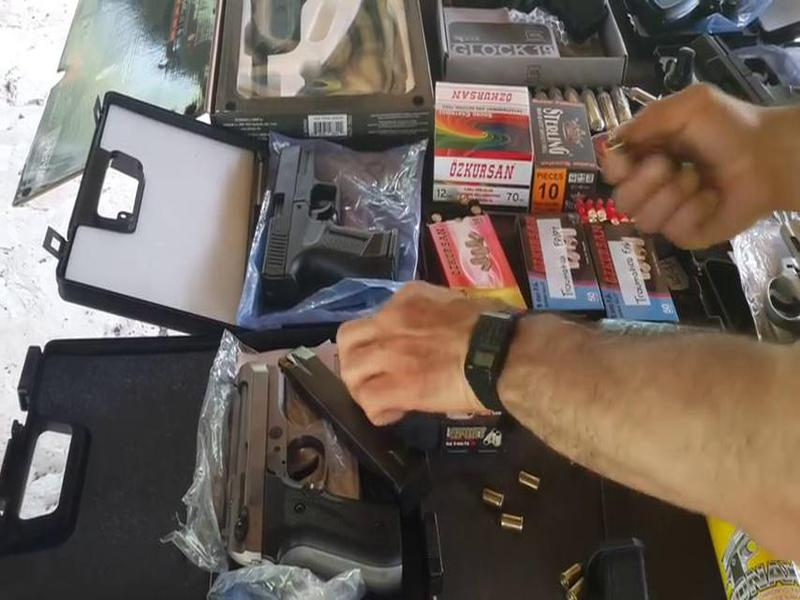Pistola: (210, 338, 412, 580), (253, 136, 414, 287)
